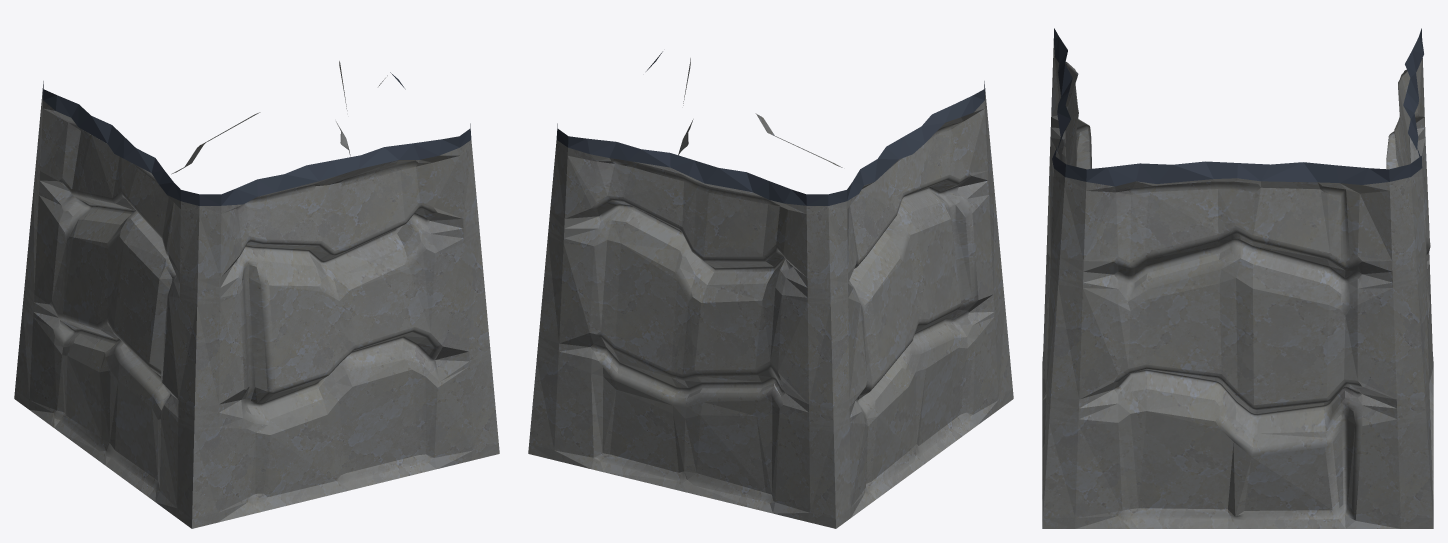
The model's file is cliff_wall_island_a.glb.
The picture shows the model from 3 angles, left to right: view 1: azimuth 30°, elevation 25°; view 2: azimuth 150°, elevation 25°; view 3: azimuth 270°, elevation 25°; orthographic projection. The views are drawn at different scales.
Parts seen in each view (by area): view 1: CliffWall_island_a_Body.001; view 2: CliffWall_island_a_Body.001; view 3: CliffWall_island_a_Body.001.
Boxes of the visible parts, x1,y1,x2,y2 form: CliffWall_island_a_Body.001: [14, 61, 499, 528]; CliffWall_island_a_Body.001: [528, 51, 1013, 528]; CliffWall_island_a_Body.001: [1042, 28, 1433, 528].
Bounding box in the file's own units: 1 × 1 × 1.
9 materials, 4 textured.
